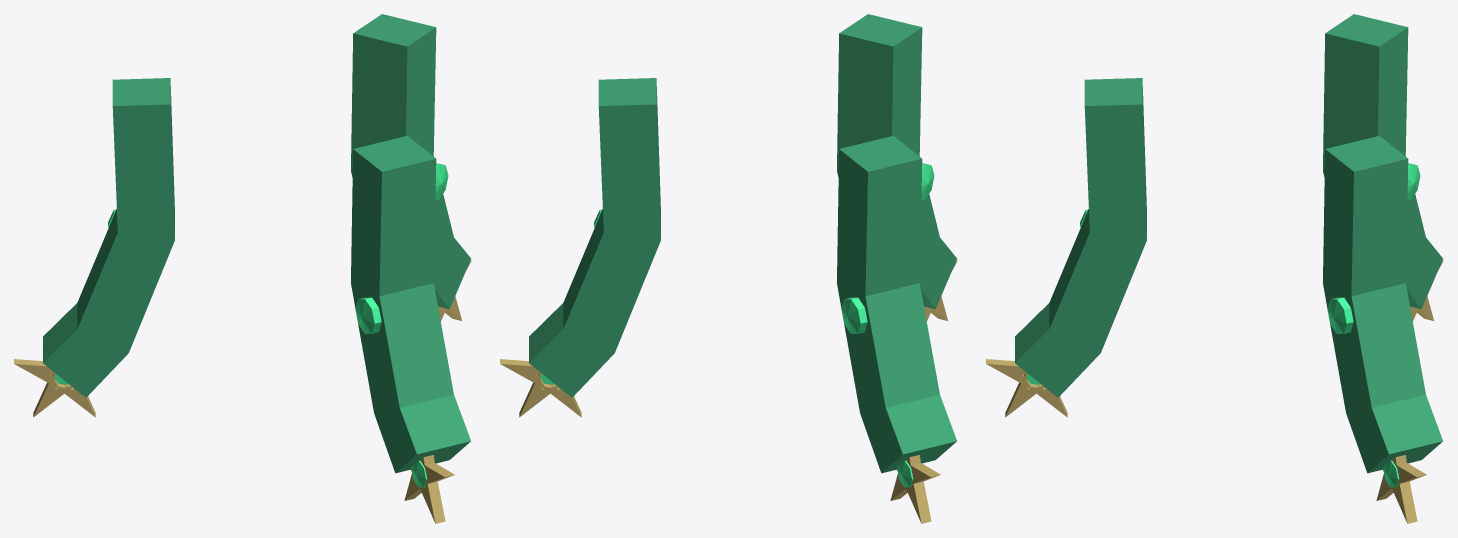
File: lotus_tripod.obj
3 renders of one model, left to right at view 1: azimuth 30°, elevation 25°; view 2: azimuth 150°, elevation 25°; view 3: azimuth 270°, elevation 25°, orthographic.
Parts seen in each view (by area): view 1: lotus_leg_02_lotus_stem_edge, lotus_leg_01_lotus_stem, lotus_leg_02_lotus_stem, lotus_leg_00_lotus_stem_edge, lotus_leg_00_lotus_stem, lotus_leg_01_lotus_stem_edge, lotus_leg_02_lotus_knee; view 2: lotus_leg_01_lotus_stem_edge, lotus_leg_00_lotus_stem, lotus_leg_01_lotus_stem, lotus_leg_02_lotus_stem_edge, lotus_leg_02_lotus_stem, lotus_leg_00_lotus_stem_edge, lotus_leg_01_lotus_knee; view 3: lotus_leg_00_lotus_stem_edge, lotus_leg_02_lotus_stem, lotus_leg_00_lotus_stem, lotus_leg_01_lotus_stem_edge, lotus_leg_01_lotus_stem, lotus_leg_02_lotus_stem_edge, lotus_leg_00_lotus_knee.
Part boxes in pixels (x1,y1,x2,y2): lotus_leg_02_lotus_stem_edge: (353, 135, 470, 473); lotus_leg_01_lotus_stem: (43, 104, 174, 397); lotus_leg_02_lotus_stem: (351, 149, 416, 472); lotus_leg_00_lotus_stem_edge: (351, 14, 449, 309); lotus_leg_00_lotus_stem: (406, 27, 470, 308); lotus_leg_01_lotus_stem_edge: (43, 78, 174, 362); lotus_leg_02_lotus_knee: (355, 297, 381, 333); lotus_leg_01_lotus_stem_edge: (839, 135, 956, 473); lotus_leg_00_lotus_stem: (529, 104, 660, 397); lotus_leg_01_lotus_stem: (837, 149, 902, 472); lotus_leg_02_lotus_stem_edge: (837, 14, 935, 309); lotus_leg_02_lotus_stem: (892, 27, 956, 308); lotus_leg_00_lotus_stem_edge: (529, 78, 660, 362); lotus_leg_01_lotus_knee: (841, 297, 867, 333); lotus_leg_00_lotus_stem_edge: (1325, 135, 1442, 473); lotus_leg_02_lotus_stem: (1015, 104, 1146, 397); lotus_leg_00_lotus_stem: (1323, 149, 1388, 472); lotus_leg_01_lotus_stem_edge: (1323, 14, 1421, 309); lotus_leg_01_lotus_stem: (1378, 27, 1442, 308); lotus_leg_02_lotus_stem_edge: (1015, 78, 1146, 362); lotus_leg_00_lotus_knee: (1327, 297, 1353, 333).
Size of the model in its own units: 1.08 by 0.751 by 0.9497.
